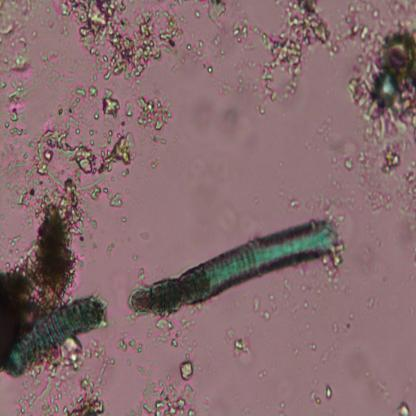Background material: (346, 29, 416, 223), (0, 181, 84, 338), (33, 90, 136, 212), (56, 0, 184, 88), (253, 0, 341, 117), (0, 0, 33, 226), (135, 359, 199, 415), (136, 91, 169, 172), (14, 364, 64, 414), (356, 223, 392, 284), (60, 336, 113, 377), (286, 193, 346, 224), (306, 116, 348, 158), (64, 376, 107, 415), (345, 1, 385, 42), (212, 56, 254, 94), (151, 316, 193, 352), (183, 32, 215, 75), (217, 95, 245, 136), (226, 325, 253, 361), (231, 15, 254, 55), (320, 254, 344, 291), (373, 70, 396, 108), (189, 155, 215, 187), (190, 96, 211, 134), (116, 327, 143, 355), (0, 230, 23, 260), (219, 204, 240, 235), (252, 294, 272, 324), (208, 0, 226, 33), (376, 376, 392, 404), (87, 216, 98, 250), (139, 222, 151, 245), (342, 156, 355, 173), (324, 383, 334, 403), (310, 390, 322, 406), (104, 242, 115, 259), (397, 401, 410, 415), (364, 298, 377, 311), (307, 342, 317, 350), (194, 10, 203, 18)
